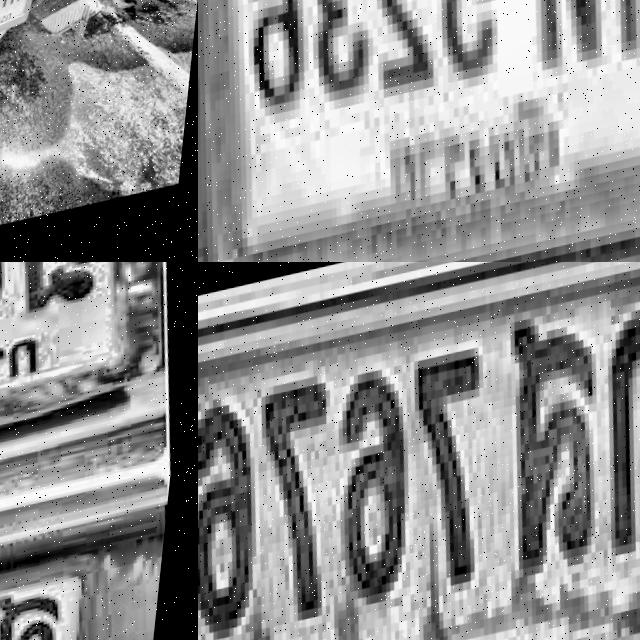license-plate: (198, 262, 640, 640), (198, 0, 640, 262), (0, 262, 164, 558), (0, 522, 168, 640), (0, 0, 63, 94)
